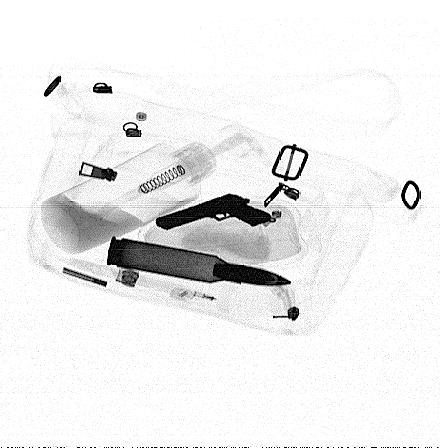Bullet: (106, 237, 293, 286)
Gun: (155, 192, 272, 230)
